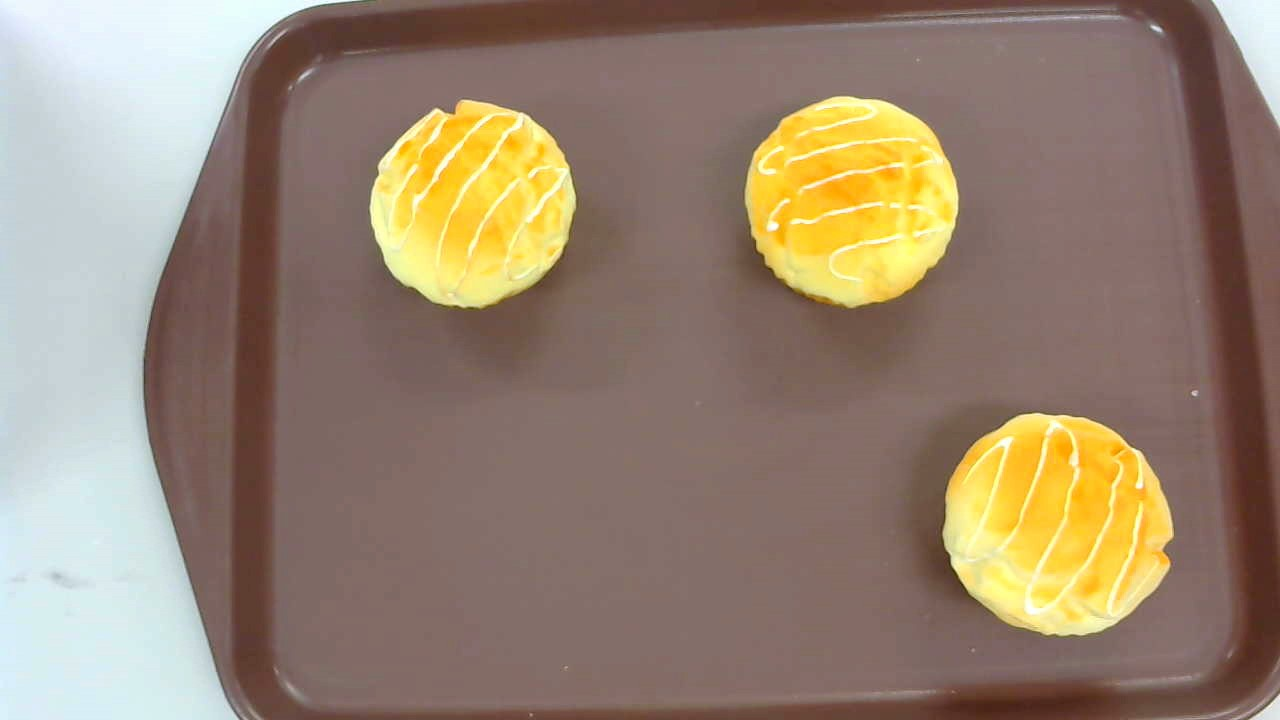cupcake: (941, 410, 1174, 637), (744, 95, 960, 308), (368, 97, 578, 309)
